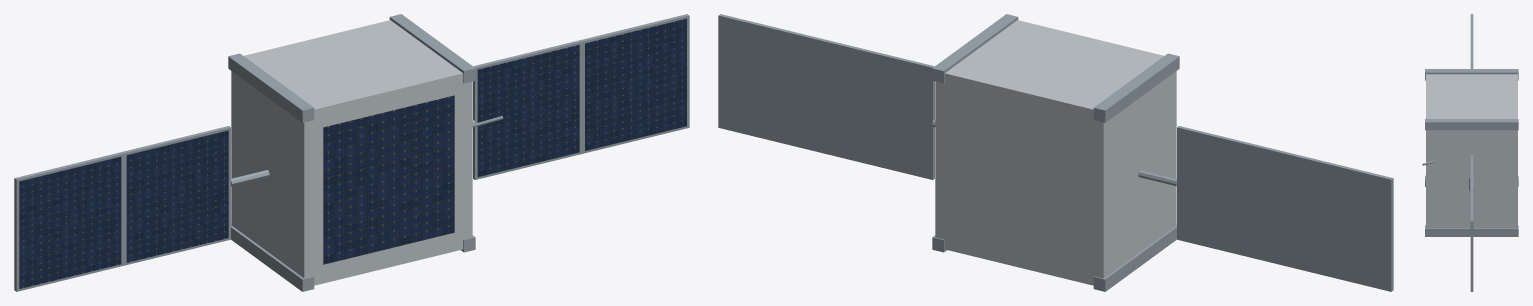
File: ref-cubesat-6u-47967.glb
The picture shows the model from 3 angles, left to right: view 1: azimuth 30°, elevation 25°; view 2: azimuth 150°, elevation 25°; view 3: azimuth 270°, elevation 25°; orthographic projection. The views are drawn at different scales.
Visible parts, largest first — view 1: Photovoltaic laminates (×4), Spacecraft body, Body-mounted cells, Array frame (×4), Dispenser rail (×3); view 2: Spacecraft body, Array frame (×4), Dispenser rail (×3); view 3: Spacecraft body, Dispenser rail (×3), Array frame (×4).
Boxes of the visible parts, x1,y1,x2,y2 form: Photovoltaic laminates (×4): [19, 18, 686, 288]; Spacecraft body: [231, 20, 472, 285]; Body-mounted cells: [323, 95, 454, 264]; Array frame (×4): [14, 14, 689, 291]; Dispenser rail (×3): [228, 14, 475, 291]; Spacecraft body: [935, 20, 1176, 285]; Array frame (×4): [718, 14, 1393, 291]; Dispenser rail (×3): [932, 14, 1179, 291]; Spacecraft body: [1426, 74, 1517, 228]; Dispenser rail (×3): [1425, 69, 1518, 236]; Array frame (×4): [1470, 14, 1473, 291].
Bounding box in the file's own units: 0.8 × 0.206 × 0.1576.
Materials: 3 (1 with a texture image).
